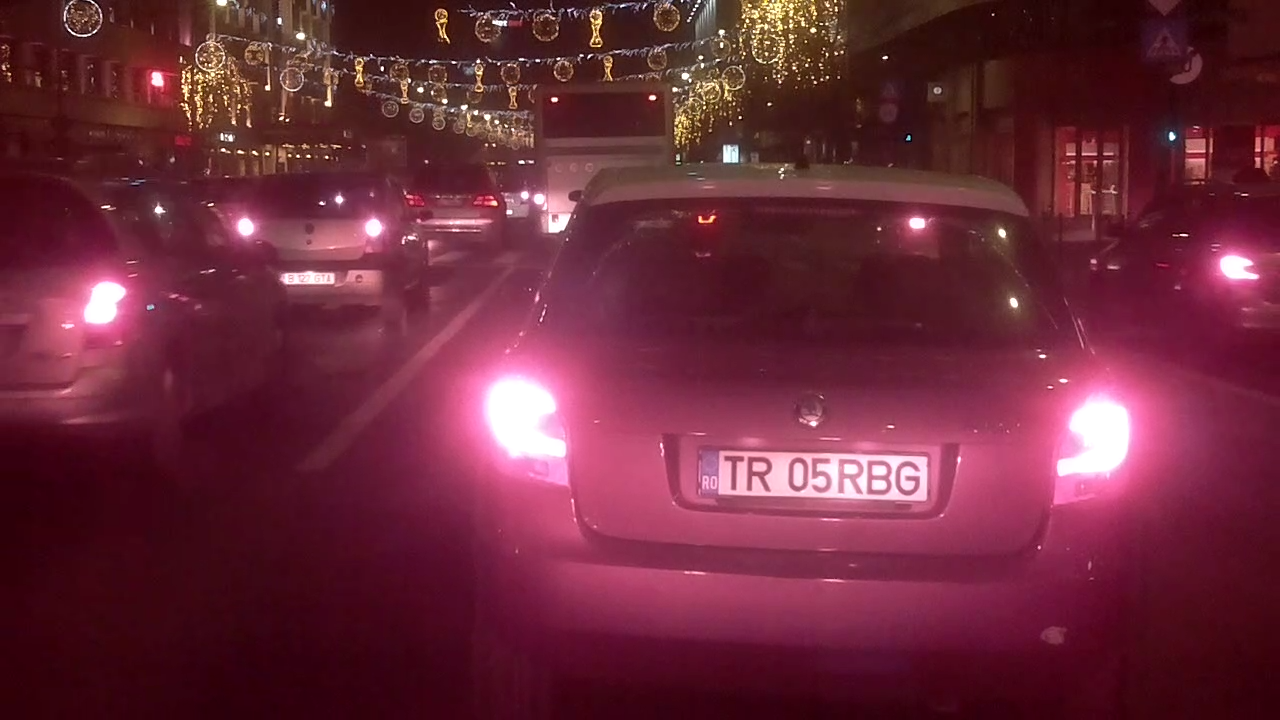license-plate: (693, 439, 942, 508), (276, 269, 336, 286)
